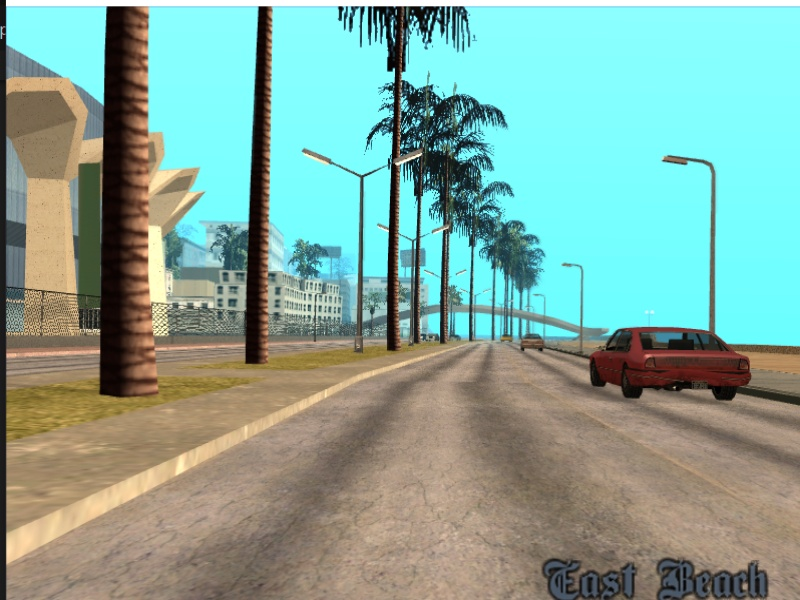pole: (701, 153, 731, 332), (347, 168, 371, 358), (574, 263, 590, 358)
tree: (99, 9, 170, 398), (250, 7, 273, 363), (389, 10, 406, 351)
vehicle: (592, 320, 758, 404), (520, 334, 546, 352)
